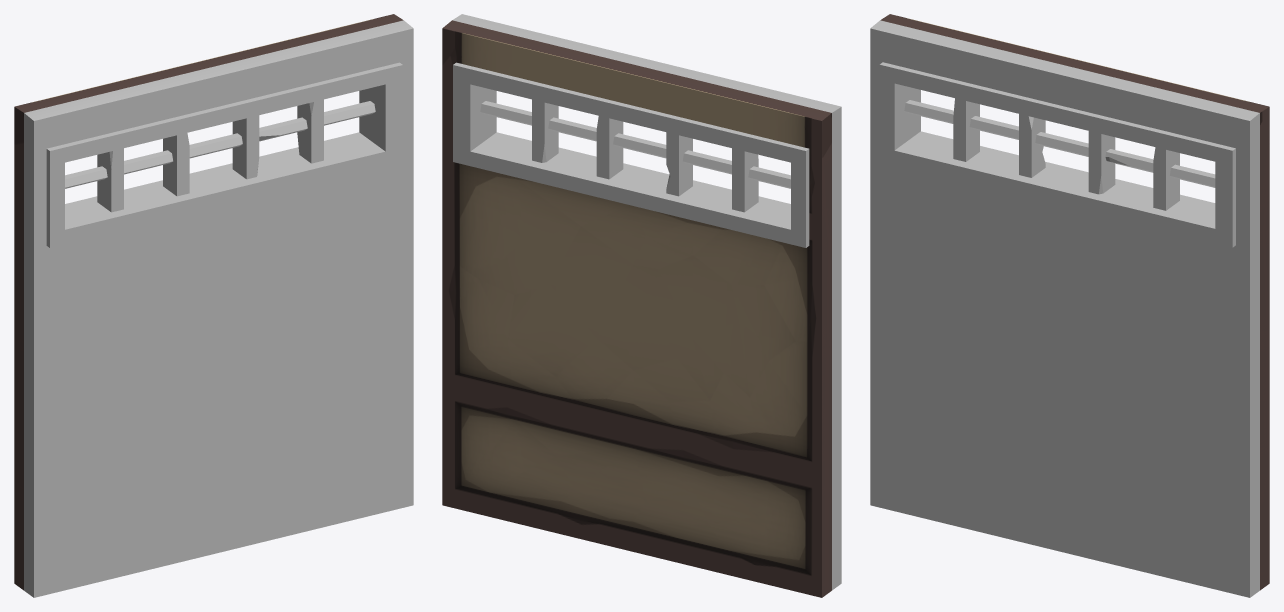
The model's file is SM_Bld_Wall_Window_08.fbx.
The picture shows the model from 3 angles, left to right: view 1: azimuth 30°, elevation 25°; view 2: azimuth 150°, elevation 25°; view 3: azimuth 330°, elevation 25°; orthographic projection.
Parts seen in each view (by area): view 1: SM_Bld_Wall_Window_08; view 2: SM_Bld_Wall_Window_08; view 3: SM_Bld_Wall_Window_08.
Part boxes in pixels (x1,y1,x2,y2): SM_Bld_Wall_Window_08: (14,14,413,597); SM_Bld_Wall_Window_08: (442,14,841,597); SM_Bld_Wall_Window_08: (870,14,1269,597).
Bounding box in the file's own units: 250 × 301 × 30.05.
